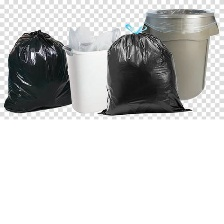plastic_bag: (94, 28, 196, 118), (0, 27, 75, 115), (64, 22, 123, 52)
